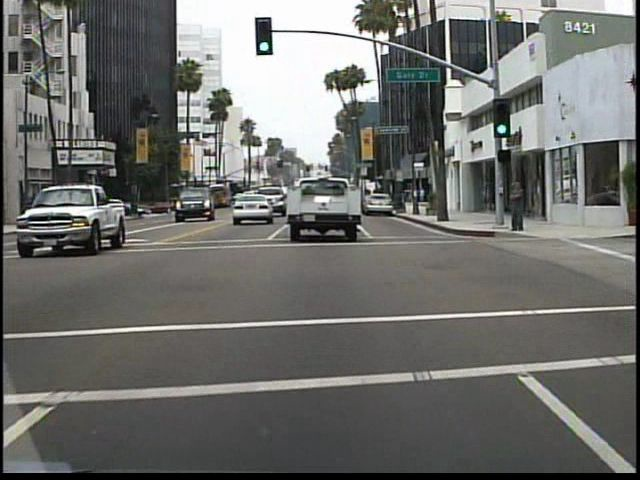person: (505, 175, 527, 238)
